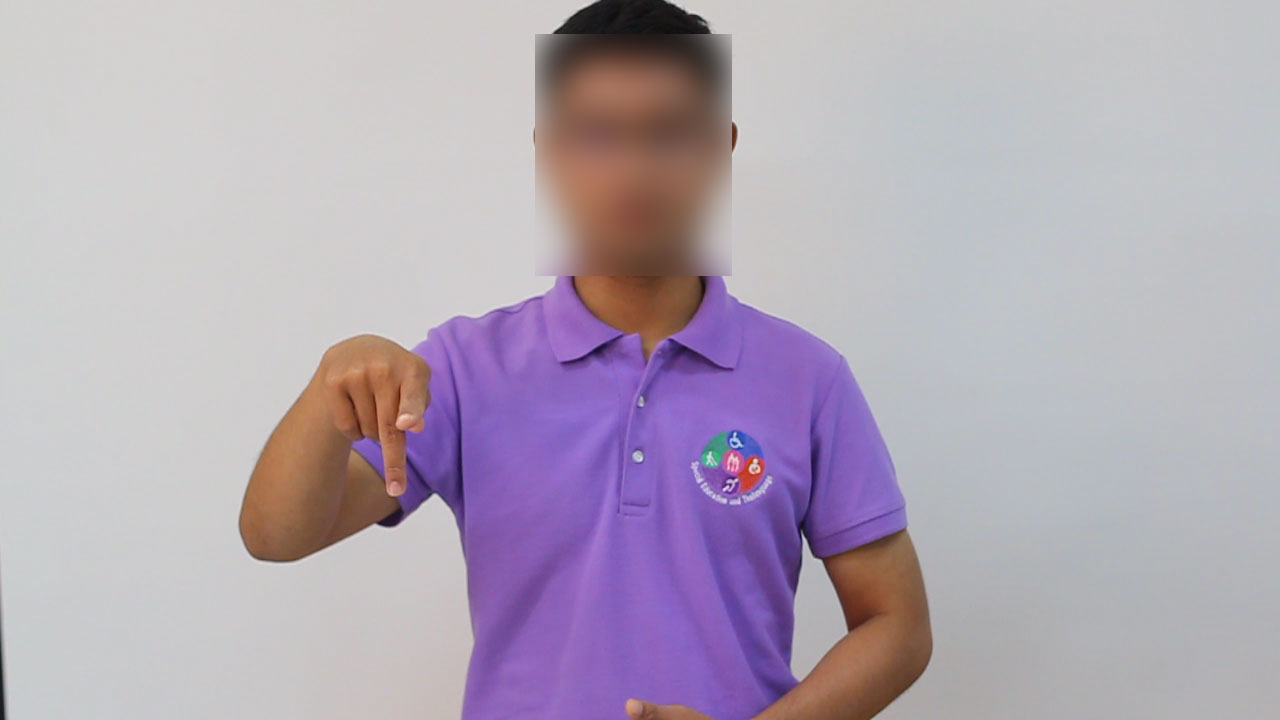por: (305, 314, 447, 513)
